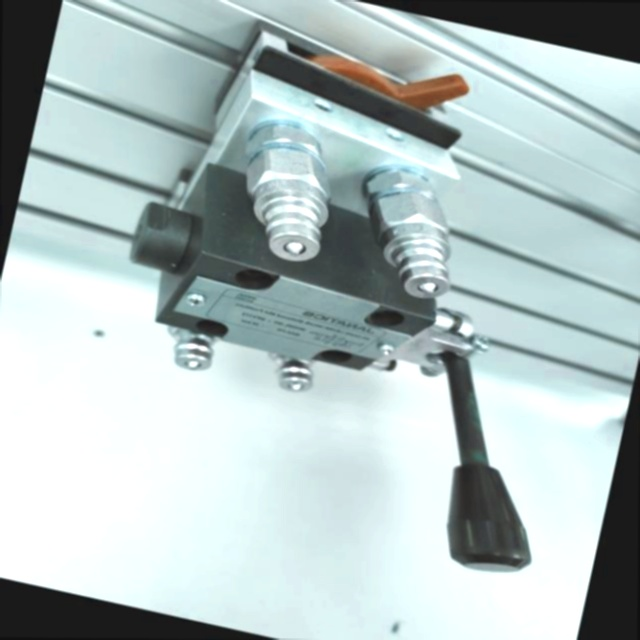4by3 hand lever valve: (64, 0, 640, 597)
